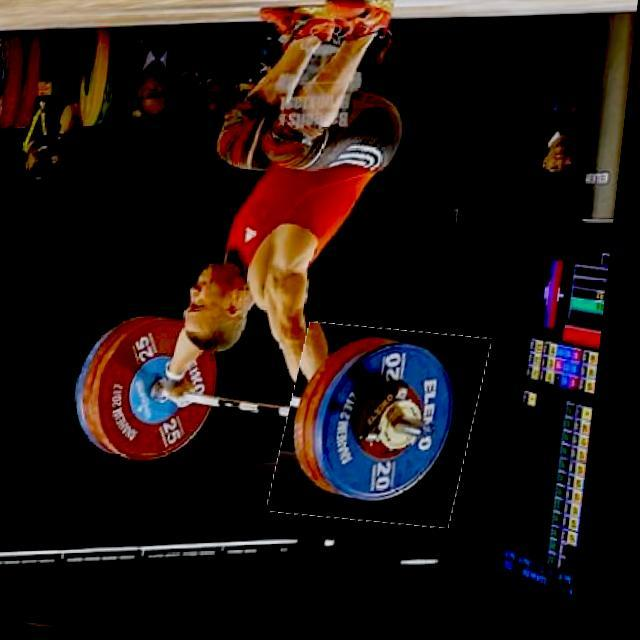barbell: (283, 325, 497, 531)
